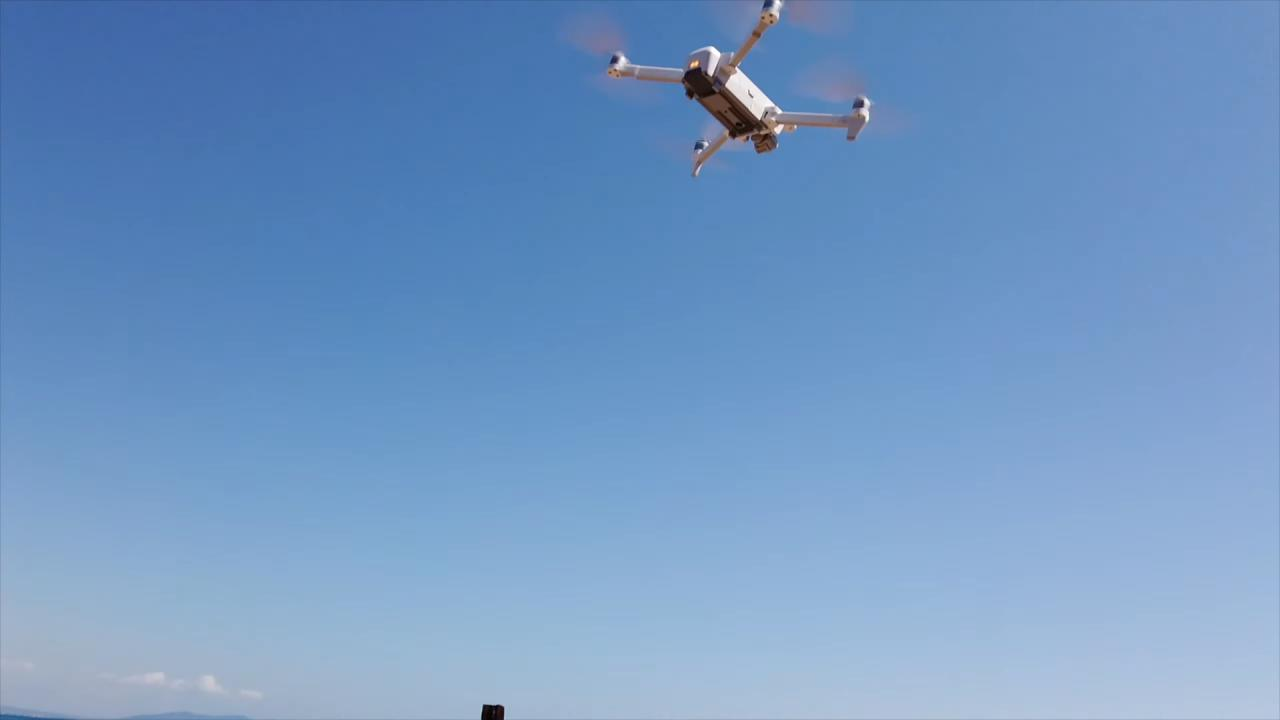Drone: (567, 0, 885, 191)
